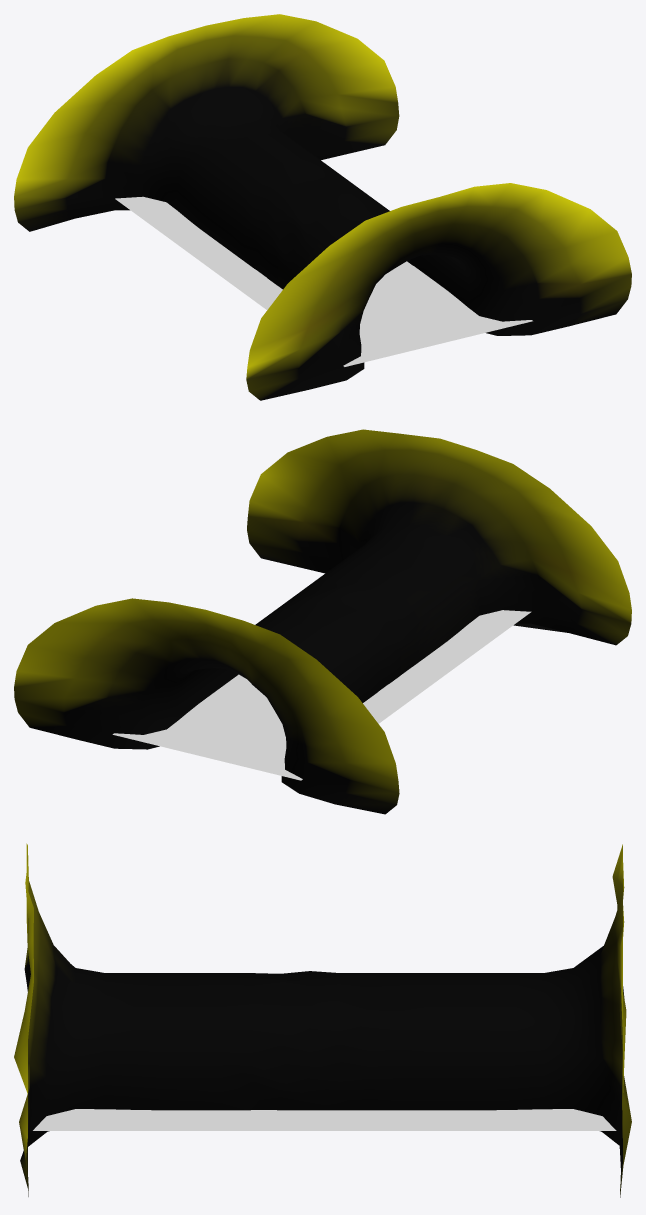
The model's file is rockTunnelv2.fbx.
3 views of the same model, one above another, from view 1: azimuth 30°, elevation 25°; view 2: azimuth 150°, elevation 25°; view 3: azimuth 270°, elevation 25° (orthographic). The views are drawn at different scales.
Parts seen in each view (by area): view 1: rockTunnel, rockTunnel_terrain; view 2: rockTunnel, rockTunnel_terrain; view 3: rockTunnel, rockTunnel_terrain.
Part boxes in pixels (x1,y1,x2,y2): rockTunnel: (14,14,631,400); rockTunnel_terrain: (115,196,532,366); rockTunnel: (14,429,631,814); rockTunnel_terrain: (112,610,531,780); rockTunnel: (14,843,631,1197); rockTunnel_terrain: (33,1109,616,1130).
Bounding box in the file's own units: 6981 × 2809 × 7599.
